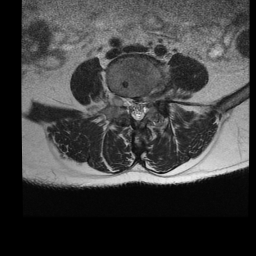CCS_normal: (134, 91, 141, 124)
LFS_severe_stenosis: (148, 88, 155, 112)
LLS_normal: (141, 93, 148, 121)
RFS_normal: (120, 88, 127, 111)
RLS_normal: (128, 91, 134, 120)
